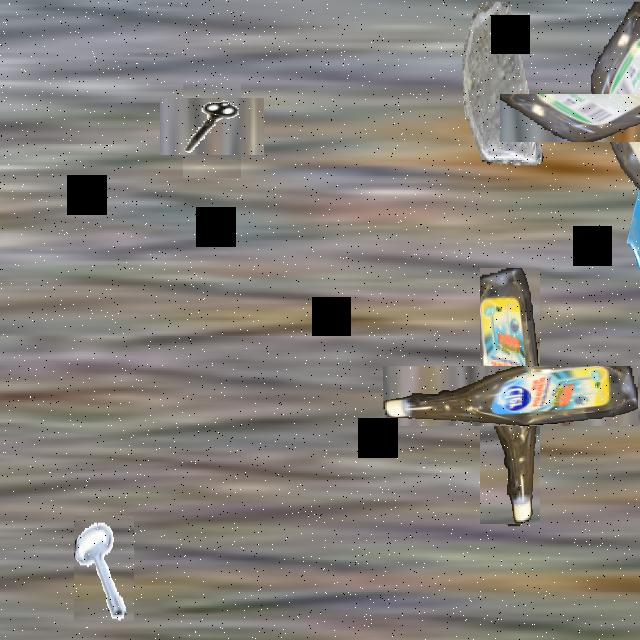glass: (457, 2, 549, 165), (625, 167, 640, 285)
metal: (172, 86, 252, 166), (74, 516, 134, 622)
plastic: (431, 318, 589, 476), (545, 47, 640, 187)
